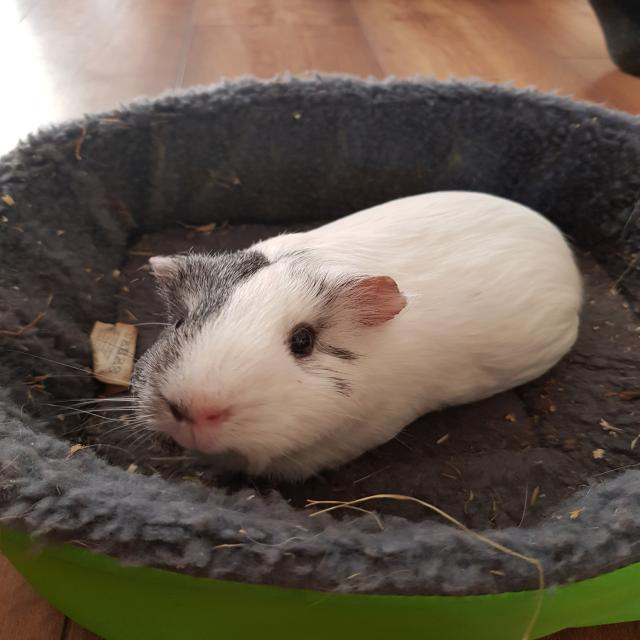guinea pig: (128, 188, 586, 488)
